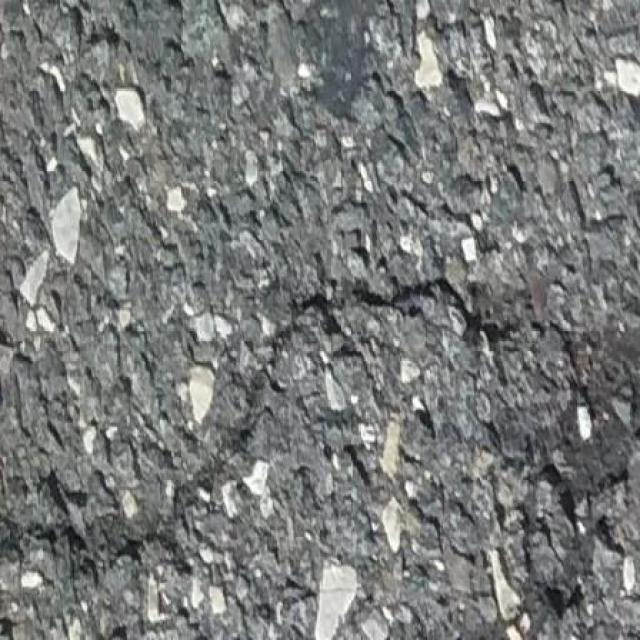Crack: (16, 301, 314, 578), (439, 338, 640, 640), (318, 276, 536, 380)
